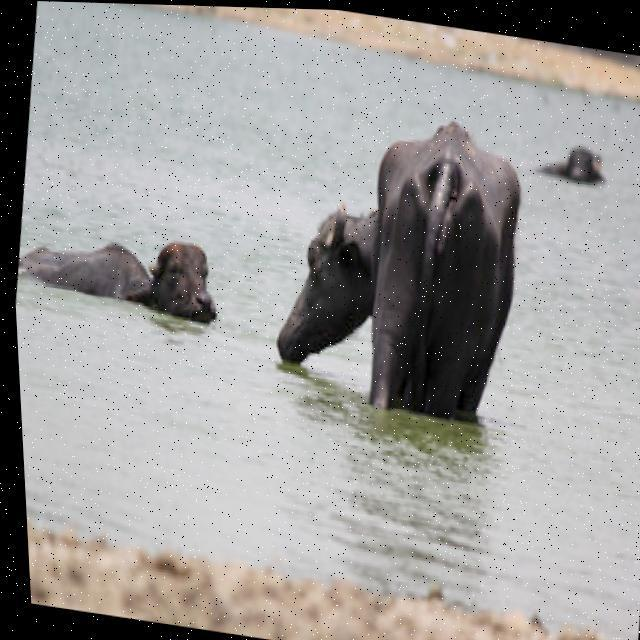Buffalo: (253, 86, 546, 445), (12, 207, 226, 324)
